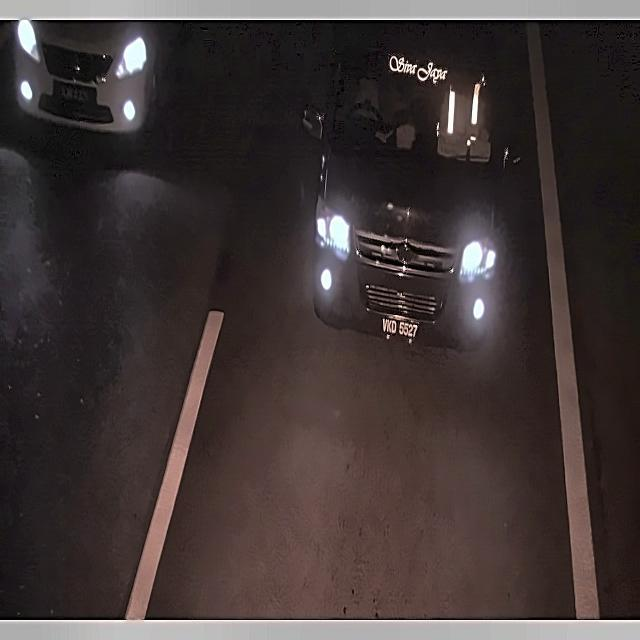car: (49, 77, 99, 118), (371, 312, 423, 348)
